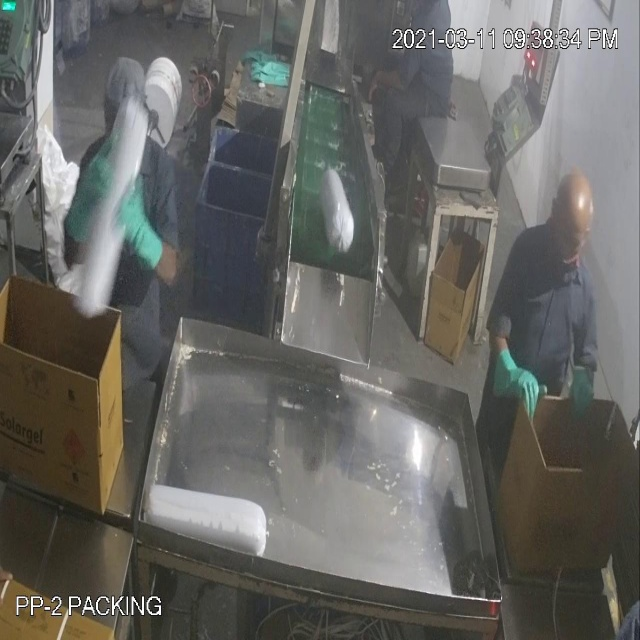Guantes: (485, 333, 549, 427), (115, 167, 167, 278), (564, 341, 605, 434)
